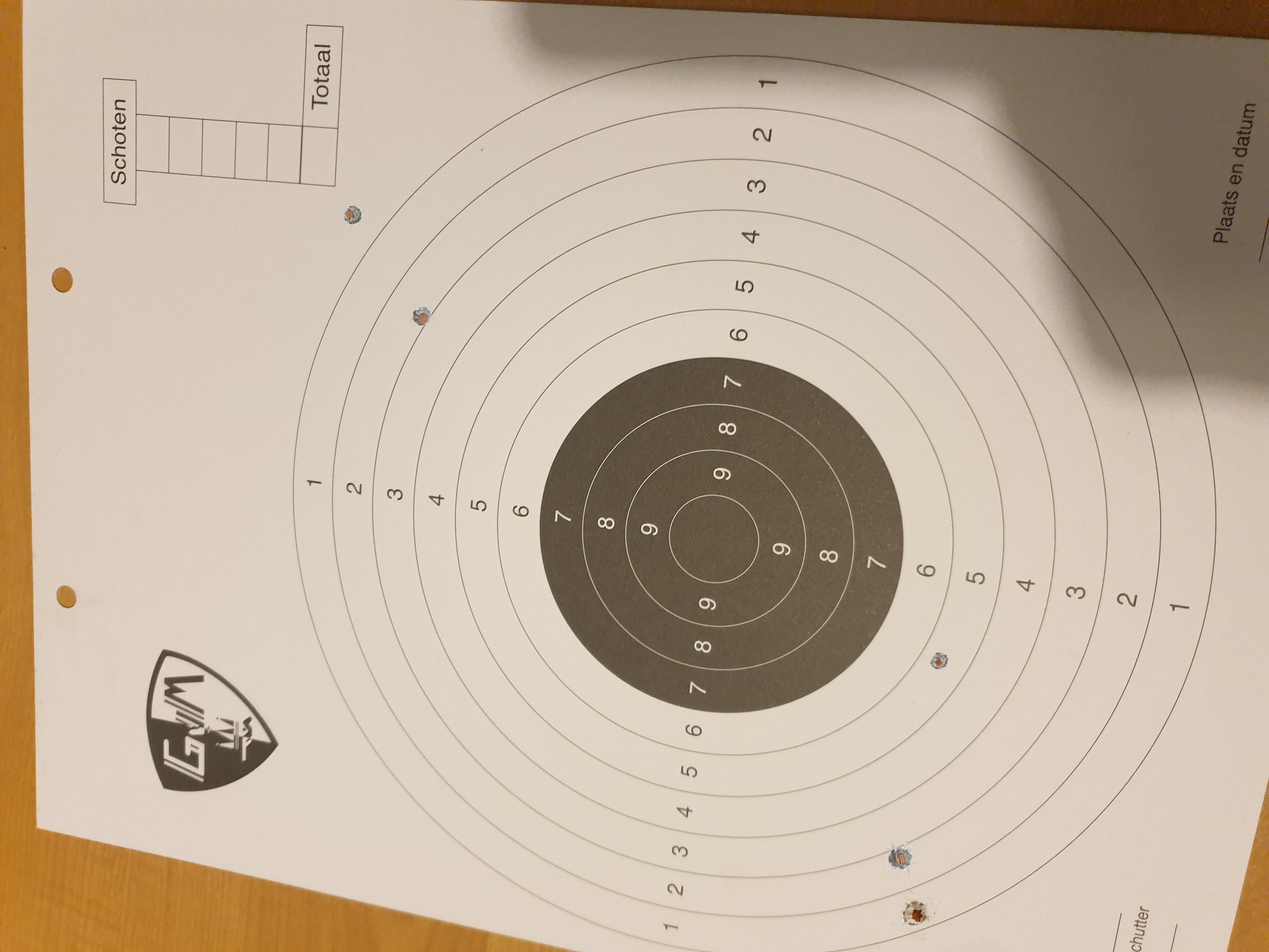hole: (899, 896, 934, 929), (883, 843, 916, 874), (407, 301, 434, 332), (339, 201, 364, 229), (928, 647, 952, 674)
